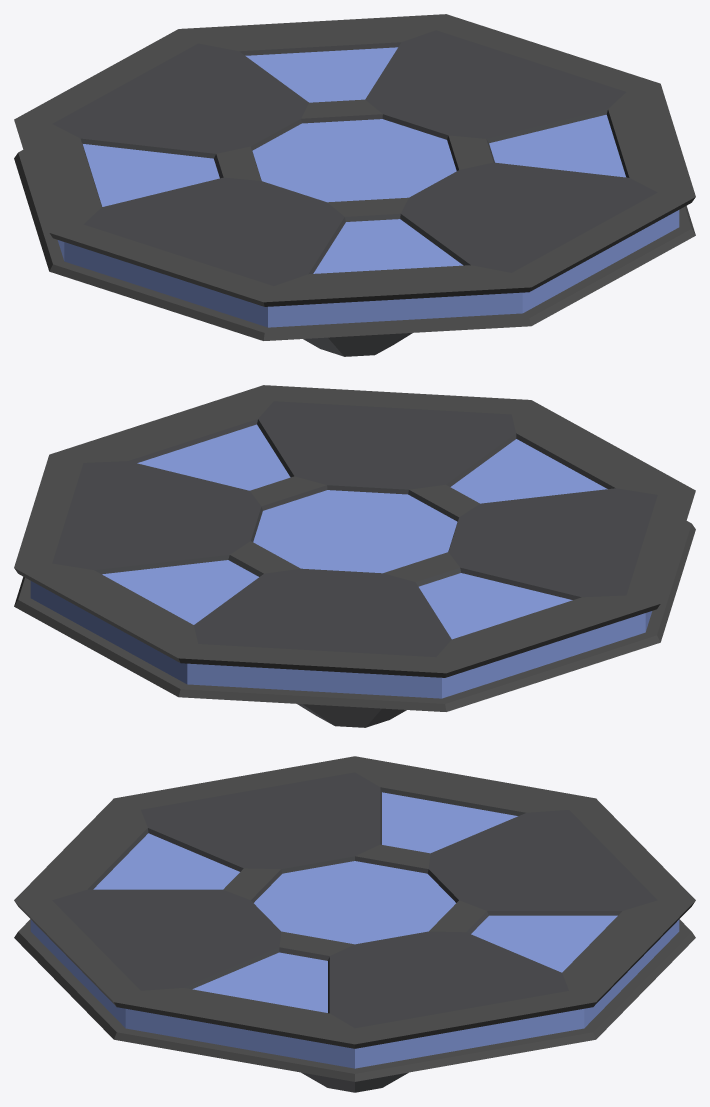
File: Platform Floating 1.fbx
3 renders of one model, top to bottom at view 1: azimuth 30°, elevation 25°; view 2: azimuth 150°, elevation 25°; view 3: azimuth 270°, elevation 25°, orthographic. The views are drawn at different scales.
Parts seen in each view (by area): view 1: Flouthing_platform_asset; view 2: Flouthing_platform_asset; view 3: Flouthing_platform_asset.
Part boxes in pixels (x1,y1,x2,y2): Flouthing_platform_asset: (14,14,695,356); Flouthing_platform_asset: (14,385,695,727); Flouthing_platform_asset: (14,756,695,1092).
Size of the model in its own units: 314 by 89.56 by 314.
